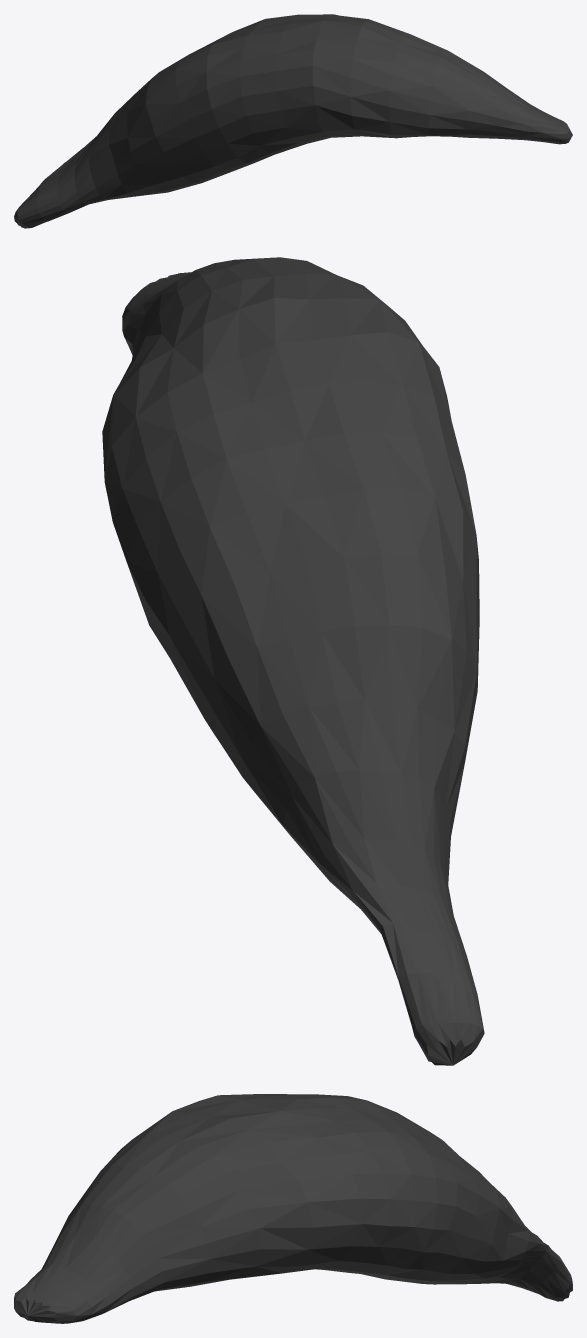
The model's file is TricepsLateral_1.glb.
3 views of the same model, one above another, from view 1: azimuth 30°, elevation 25°; view 2: azimuth 150°, elevation 25°; view 3: azimuth 270°, elevation 25° (orthographic). The views are drawn at different scales.
Visible parts, largest first — view 1: TricepsLateral_1; view 2: TricepsLateral_1; view 3: TricepsLateral_1.
Part boxes in pixels (bbox=[...]): TricepsLateral_1: bbox=[14, 14, 572, 228]; TricepsLateral_1: bbox=[102, 257, 484, 1065]; TricepsLateral_1: bbox=[14, 1094, 572, 1323].
Bounding box in the file's own units: 0.0244 × 0.0156 × 0.0249.
1 material, 1 textured.
